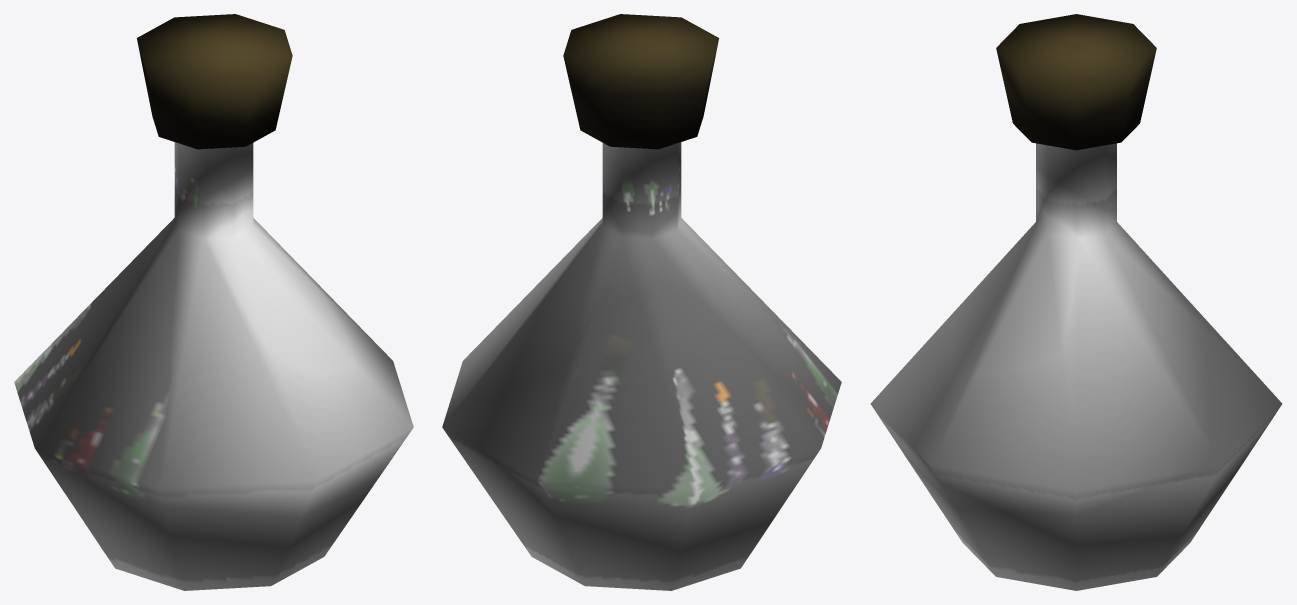
The model's file is Potion4.fbx.
The picture shows the model from 3 angles, left to right: view 1: azimuth 30°, elevation 25°; view 2: azimuth 150°, elevation 25°; view 3: azimuth 270°, elevation 25°; orthographic projection.
Visible parts, largest first — view 1: Cylinder.006; view 2: Cylinder.006; view 3: Cylinder.006.
Part boxes in pixels (bbox=[...]): Cylinder.006: bbox=[14, 14, 413, 590]; Cylinder.006: bbox=[442, 14, 841, 590]; Cylinder.006: bbox=[870, 14, 1282, 590].
Bounding box in the file's own units: 48.35 × 65.07 × 48.35.
